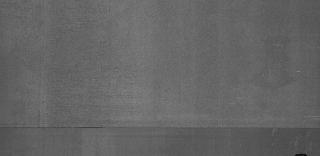punching hole: (294, 152, 308, 156)
welding line: (4, 119, 320, 137)
